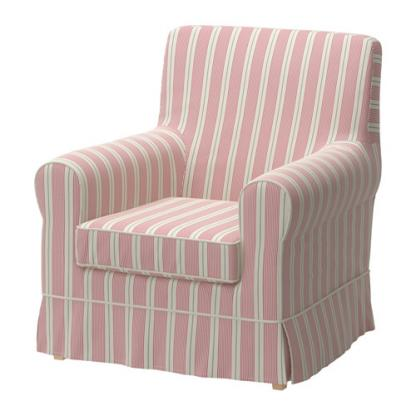Chair: (30, 21, 386, 391)
